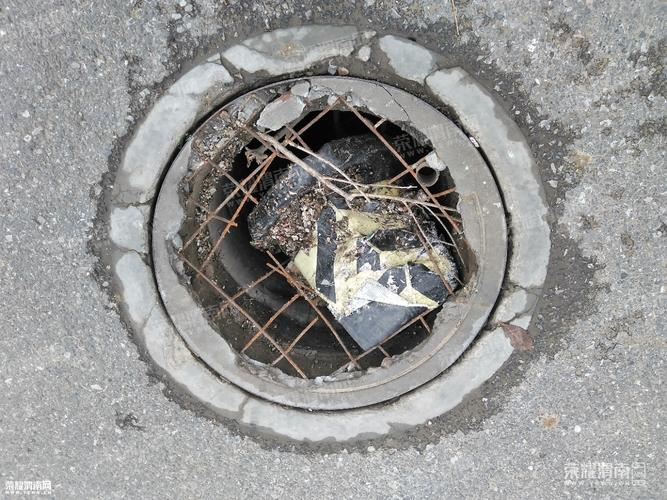broke: (84, 19, 582, 455)
